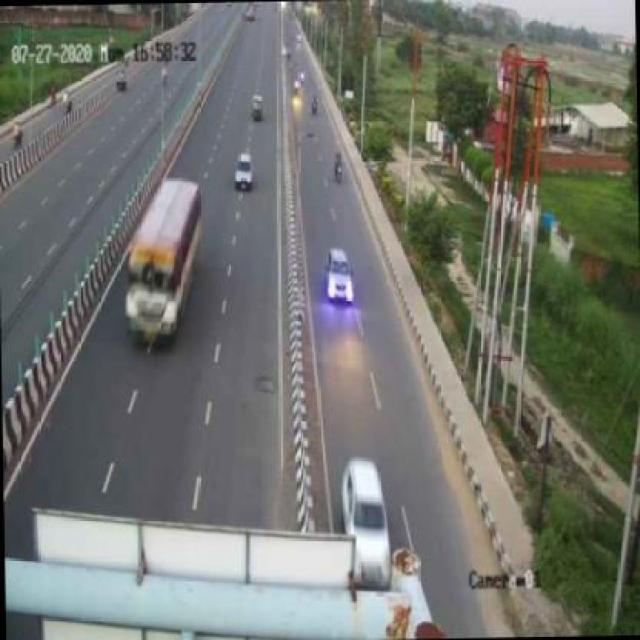car: (346, 454, 402, 588), (324, 243, 356, 311), (235, 152, 254, 192)
